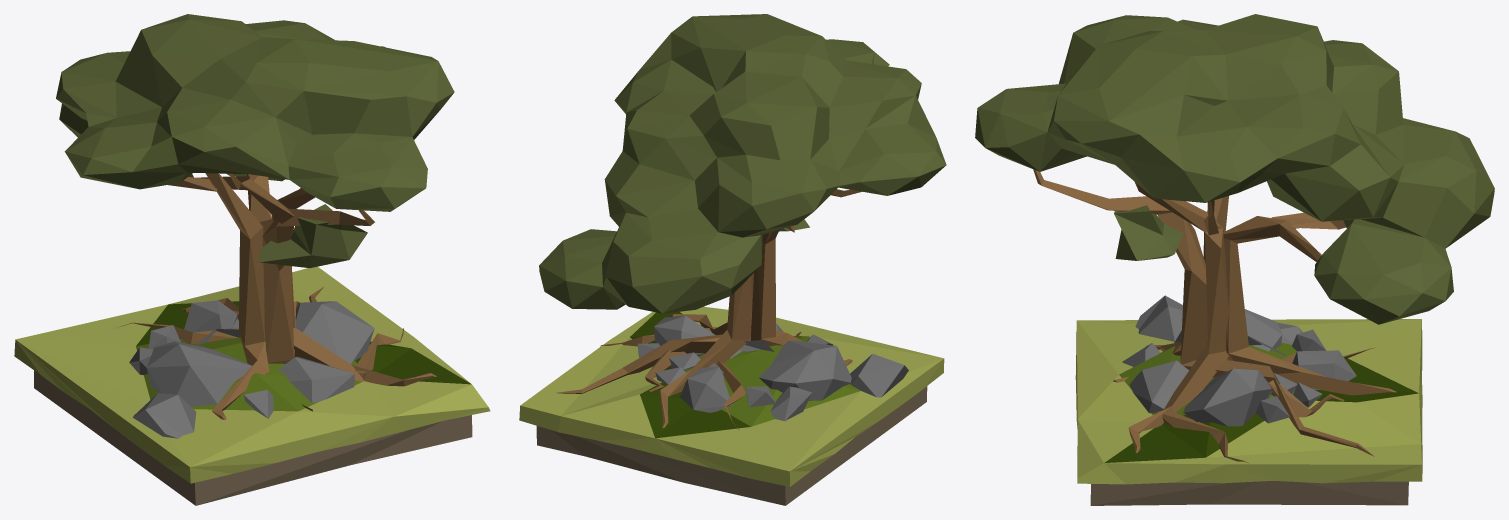
Rendered from Oak Tree.glb.
3 views of the same model, side by side, from view 1: azimuth 30°, elevation 25°; view 2: azimuth 150°, elevation 25°; view 3: azimuth 270°, elevation 25° (orthographic). The views are drawn at different scales.
Visible parts, largest first — view 1: Mball.017_Mesh; view 2: Mball.017_Mesh; view 3: Mball.017_Mesh.
Part boxes in pixels (x1,y1,x2,y2): Mball.017_Mesh: (14, 14, 490, 505); Mball.017_Mesh: (519, 14, 946, 505); Mball.017_Mesh: (975, 14, 1494, 505).
Size of the model in its own units: 4.74 by 4.99 by 6.02.
